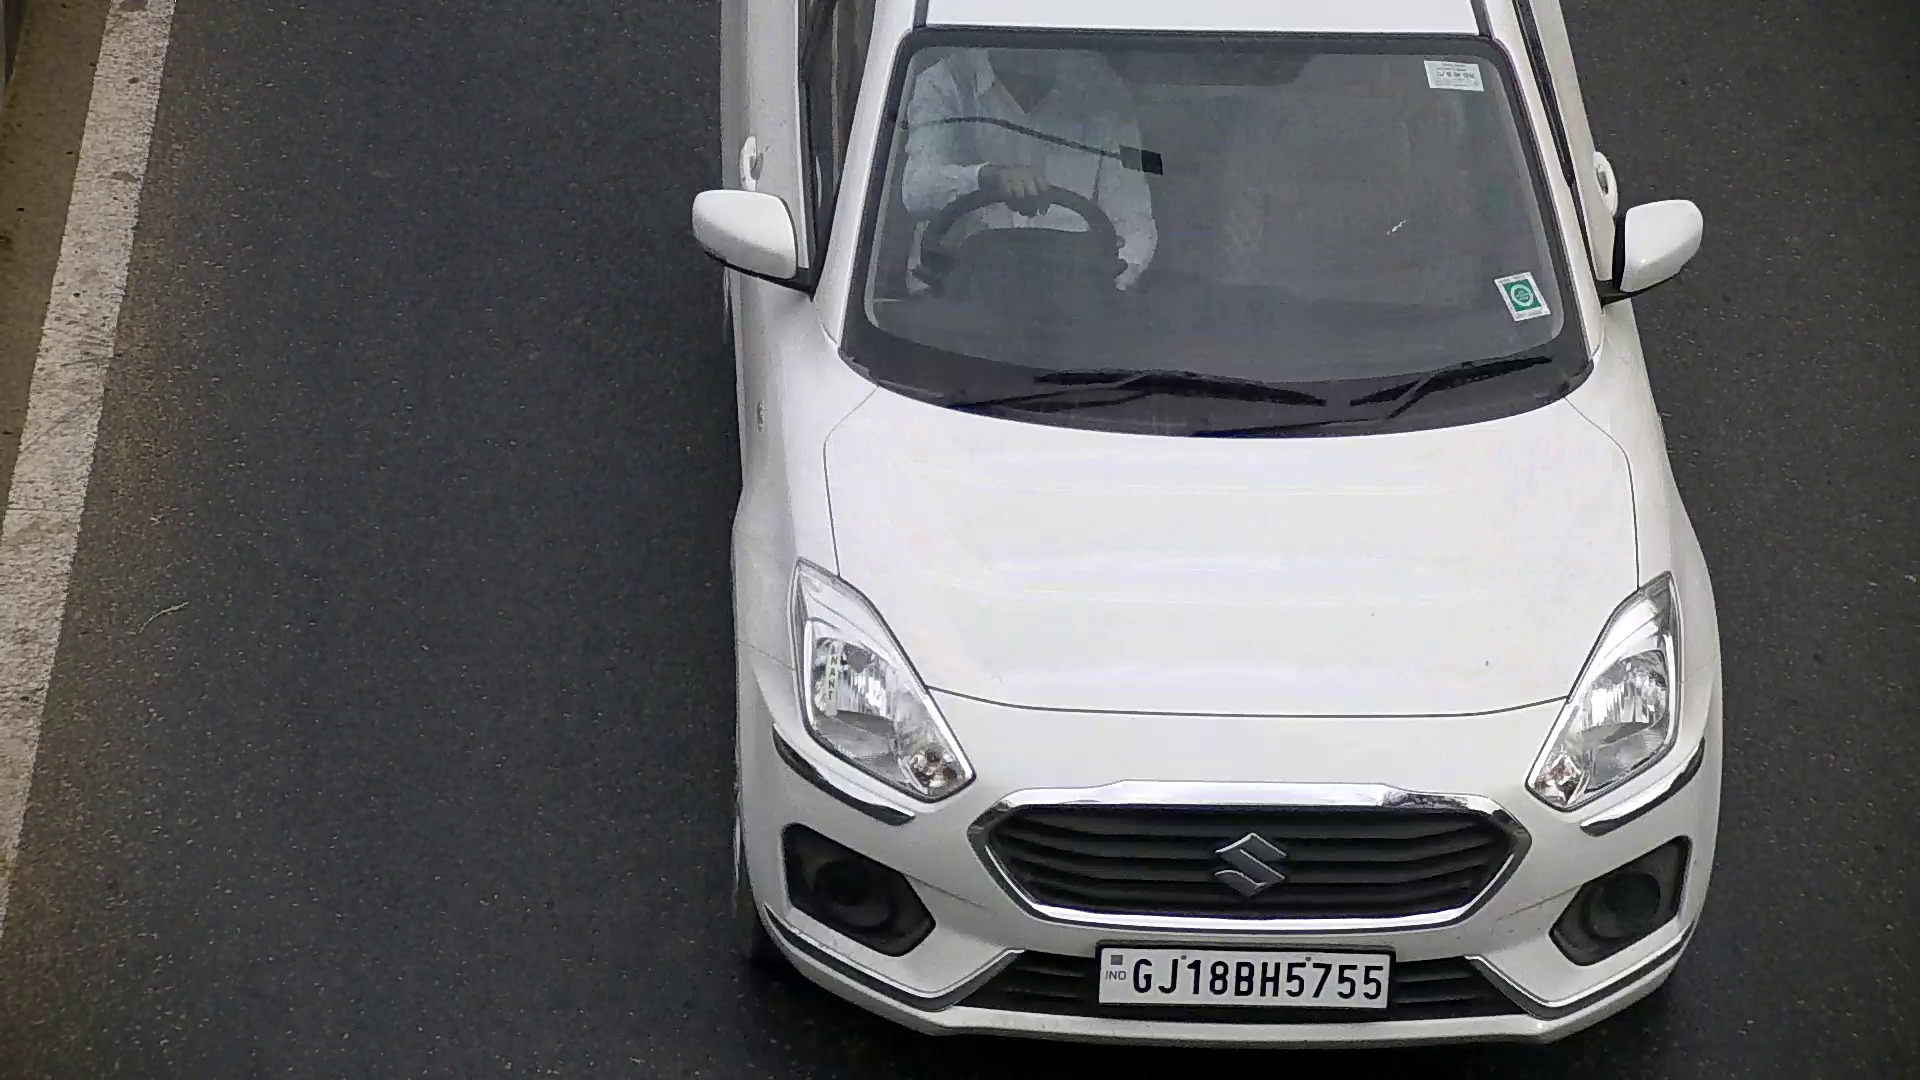numberplate: (1092, 940, 1395, 1010)
